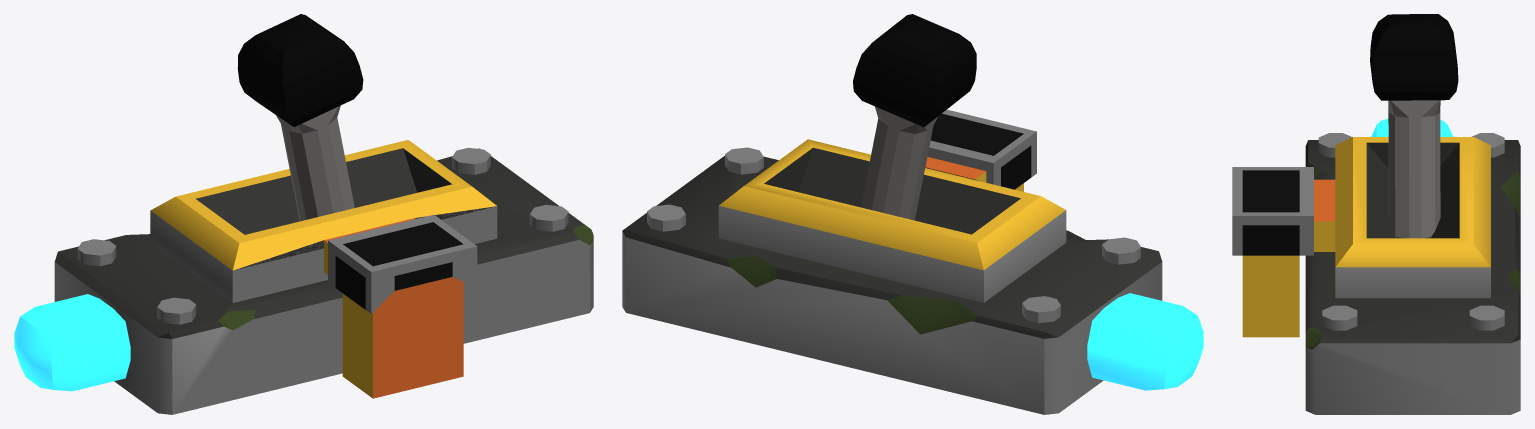
The model's file is Switch.fbx.
The picture shows the model from 3 angles, left to right: view 1: azimuth 30°, elevation 25°; view 2: azimuth 150°, elevation 25°; view 3: azimuth 270°, elevation 25°; orthographic projection. The views are drawn at different scales.
Visible parts, largest first — view 1: Switch, Palanca; view 2: Switch, Palanca; view 3: Switch, Palanca.
Boxes of the visible parts, x1=… form: Switch: x1=14, y1=140, x2=593, y2=414; Palanca: x1=237, y1=14, x2=363, y2=221; Switch: x1=622, y1=109, x2=1203, y2=414; Palanca: x1=853, y1=14, x2=976, y2=220; Switch: x1=1232, y1=119, x2=1520, y2=414; Palanca: x1=1370, y1=14, x2=1458, y2=238.
Size of the model in its own units: 526 by 292 by 268.
